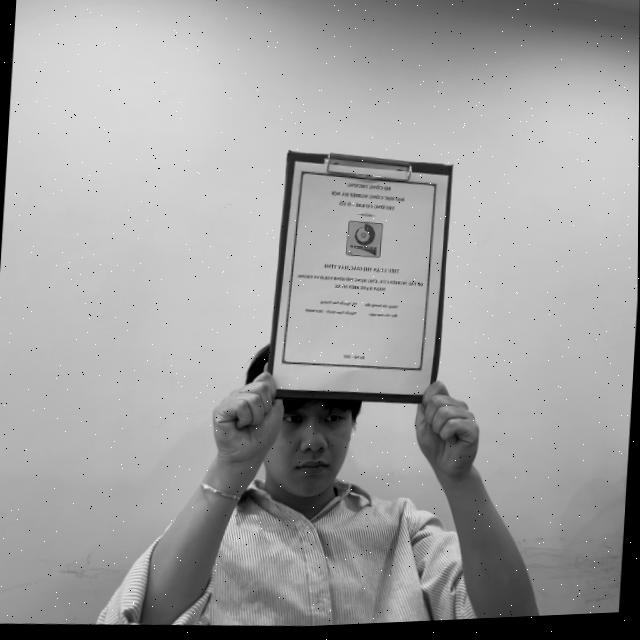document: (271, 162, 448, 394)
face: (261, 398, 369, 503)
